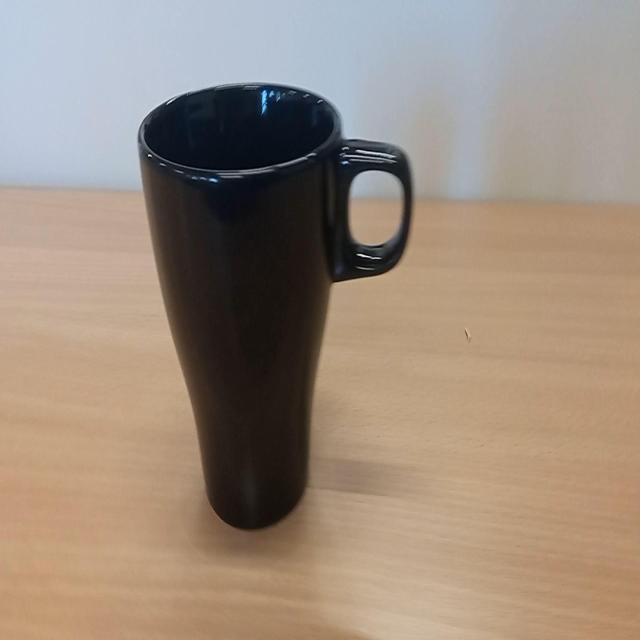cup: (137, 78, 413, 532)
